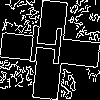H: (25, 25, 66, 74)
